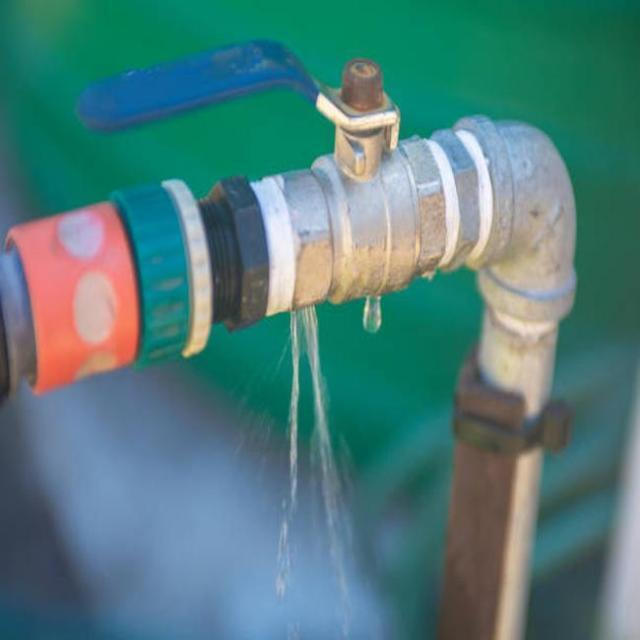pipe burst: (276, 294, 351, 614)
water drop: (360, 288, 384, 334)
